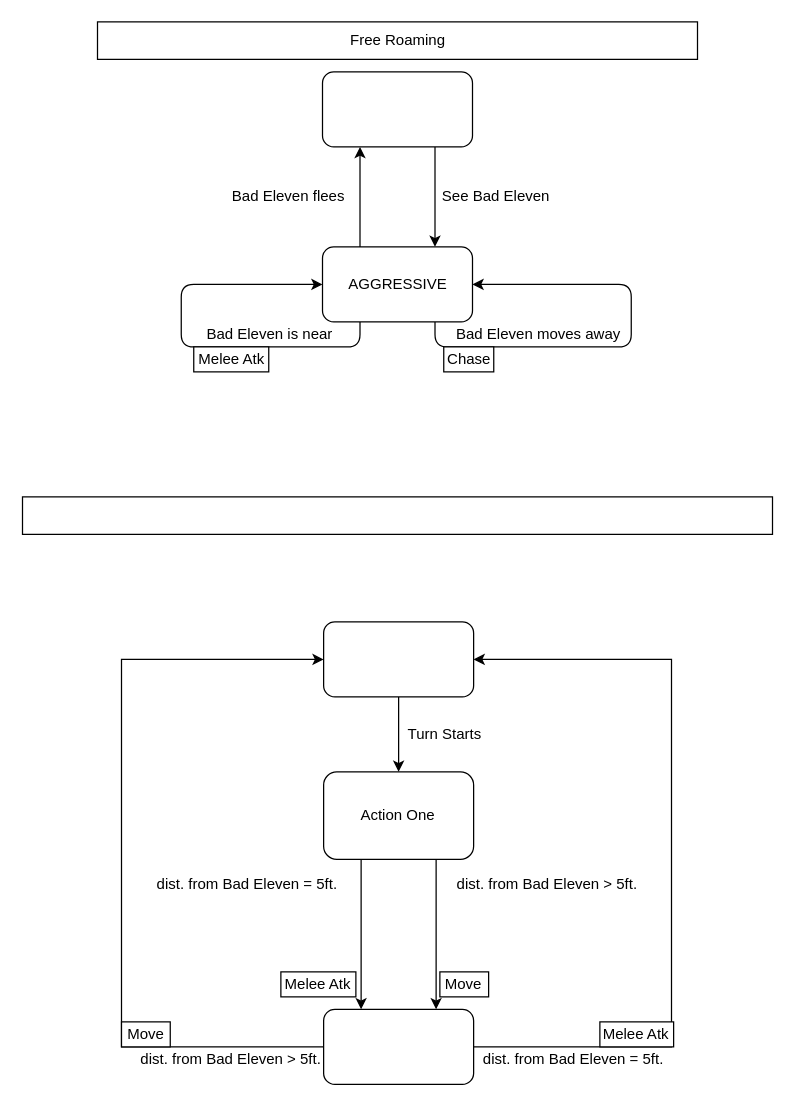
This 794x1106 diagram has some shape labels left out. Here are the shapes that lost their labels. From the top down, the centre of each, then its label:
At (396,109): "IDLE".
At (396,515): "Battle Mode".
At (398,659): "Wait Turn".
At (398,1046): "Action Two".
